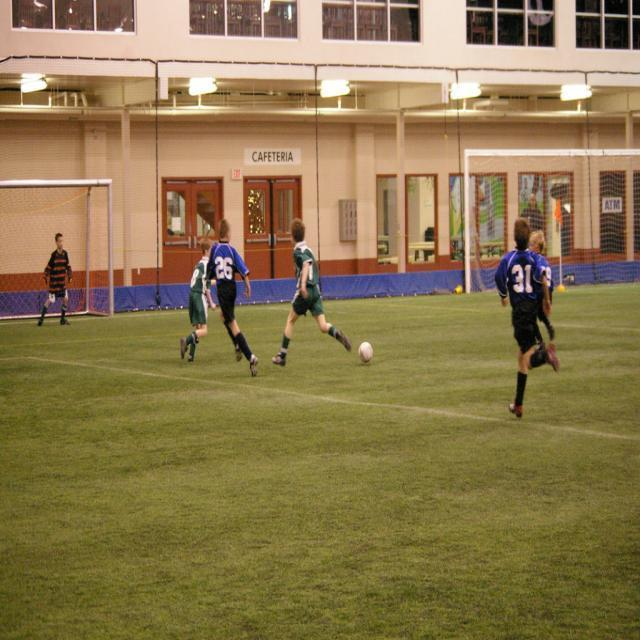football: (340, 330, 393, 379)
